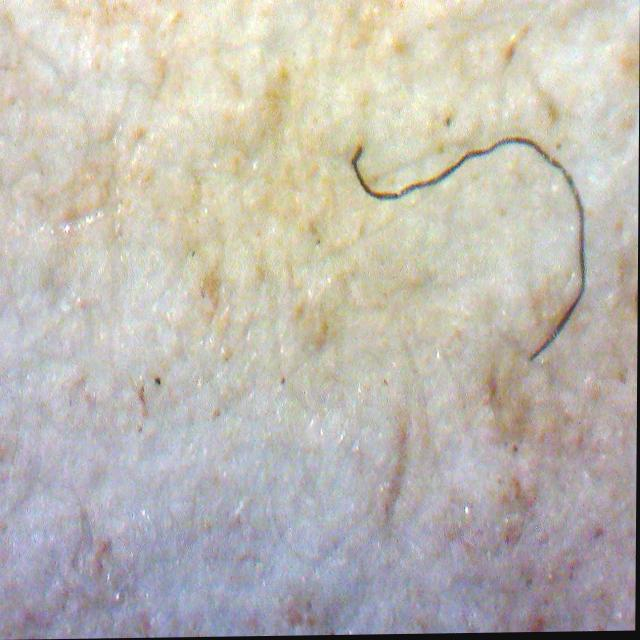microplastic: (352, 137, 586, 366)
